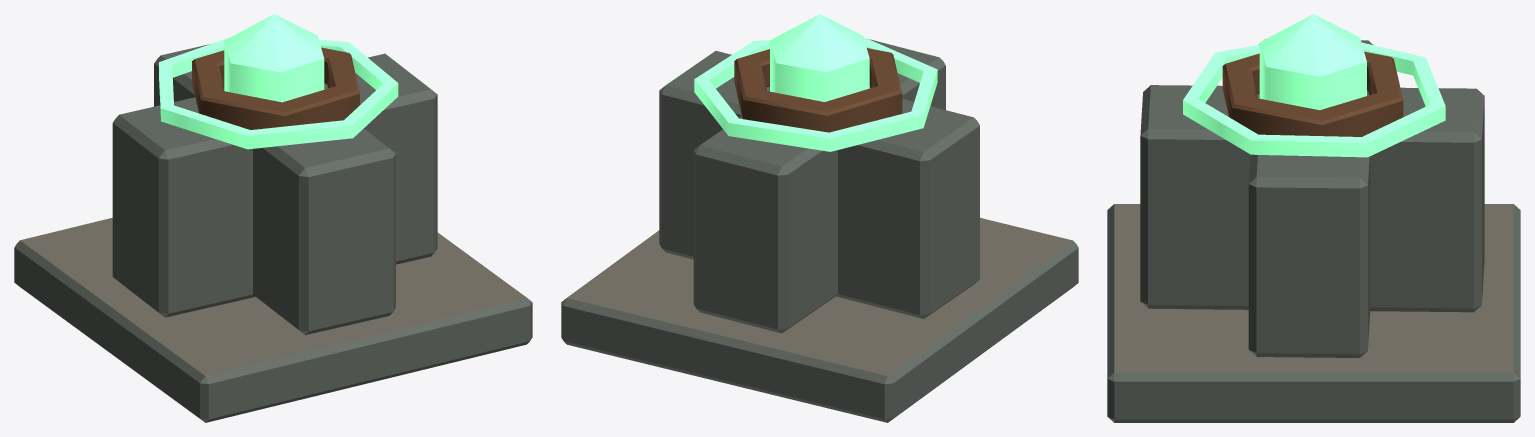
The model's file is R4X_RepairPulse_LOD1.fbx.
3 renders of one model, left to right at view 1: azimuth 30°, elevation 25°; view 2: azimuth 150°, elevation 25°; view 3: azimuth 270°, elevation 25°, orthographic. The views are drawn at different scales.
Visible parts, largest first — view 1: R4X_RepairPulse_LOD1; view 2: R4X_RepairPulse_LOD1; view 3: R4X_RepairPulse_LOD1.
Part boxes in pixels (x1,y1,x2,y2): R4X_RepairPulse_LOD1: (14,14,532,422); R4X_RepairPulse_LOD1: (561,14,1078,422); R4X_RepairPulse_LOD1: (1107,14,1520,422).
Size of the model in its own units: 0.52 by 0.4513 by 0.52.
